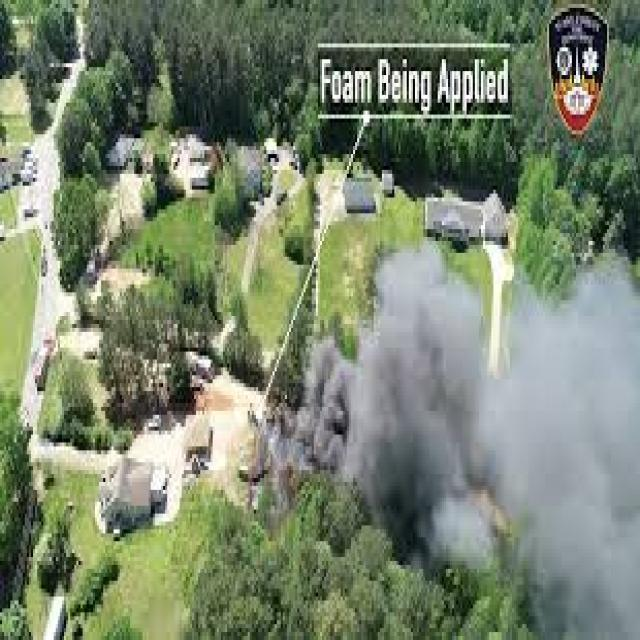Smoke: (261, 196, 498, 584)
